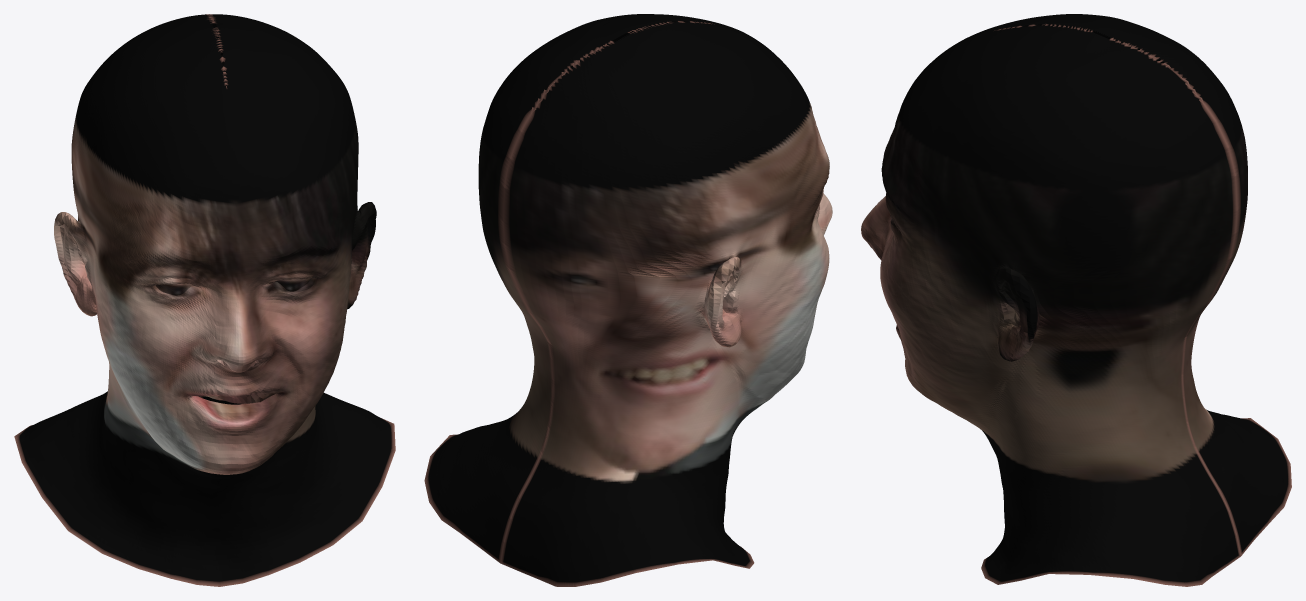
The model's file is mesh_coarse_detail.obj.
3 renders of one model, left to right at view 1: azimuth 30°, elevation 25°; view 2: azimuth 150°, elevation 25°; view 3: azimuth 270°, elevation 25°, orthographic. The views are drawn at different scales.
Size of the model in its own units: 0.2063 by 0.324 by 0.235.
